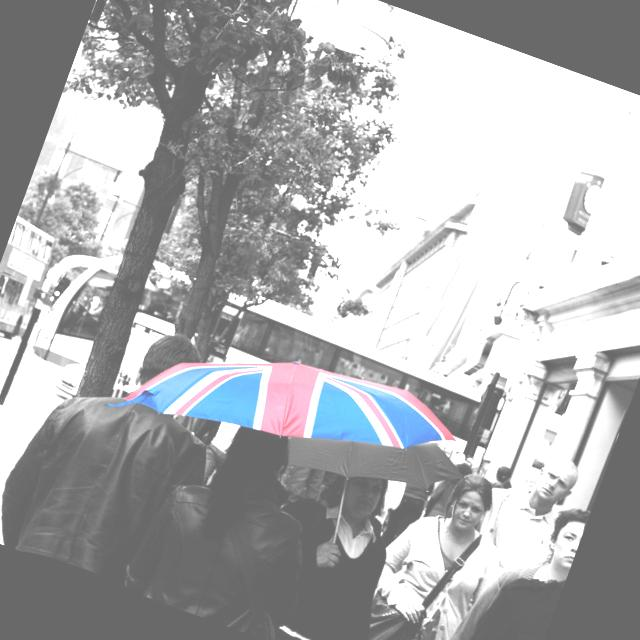Vehicle: (14, 228, 492, 512), (0, 213, 70, 347)
